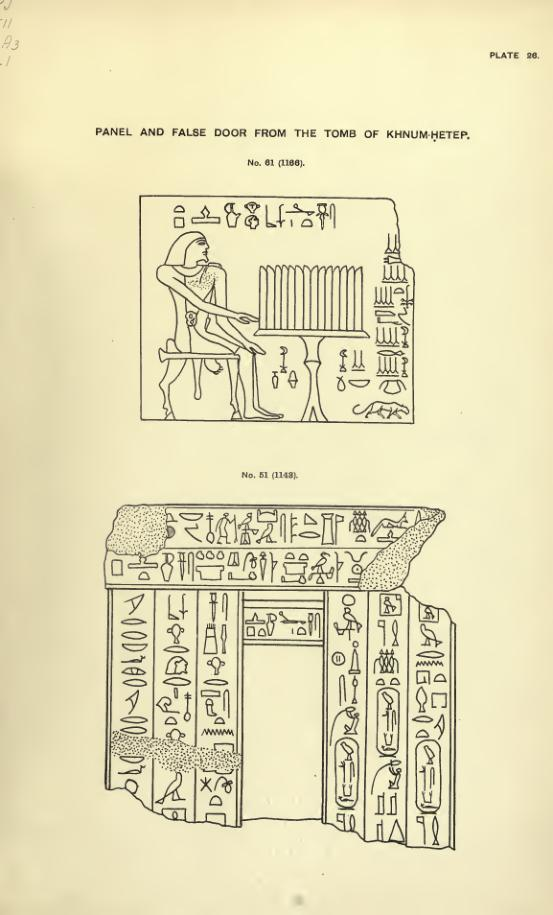circle: (413, 738, 444, 814), (332, 736, 362, 812), (375, 687, 402, 758)
